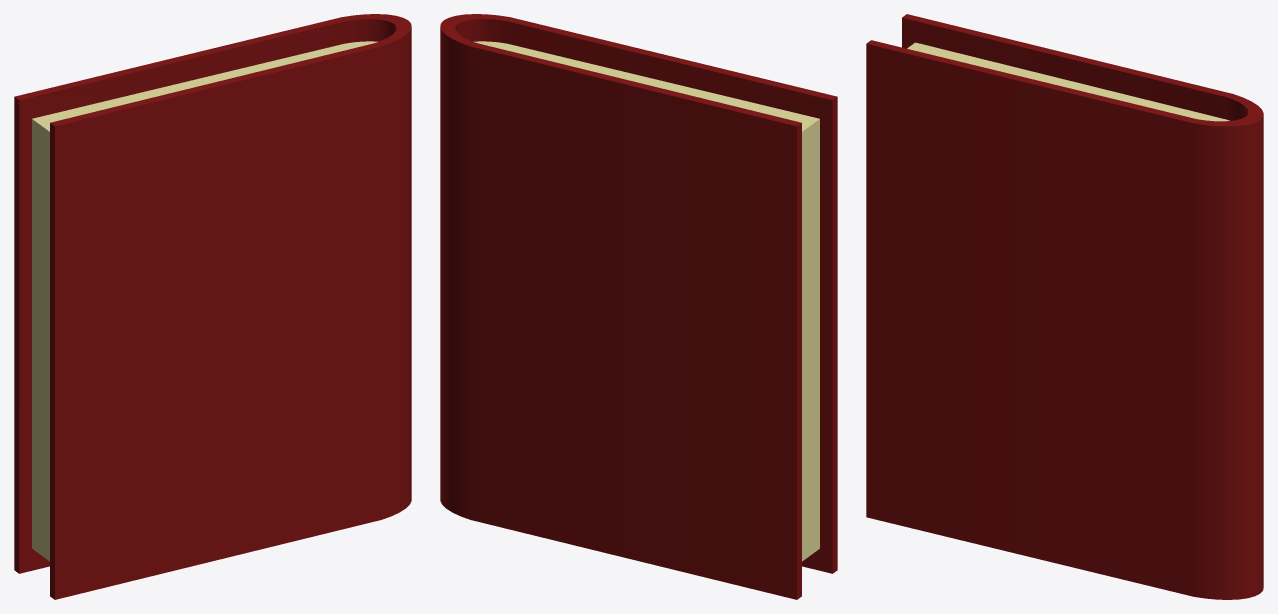
The model's file is book_red.glb.
3 views of the same model, side by side, from view 1: azimuth 30°, elevation 25°; view 2: azimuth 150°, elevation 25°; view 3: azimuth 330°, elevation 25° (orthographic).
Visible parts, largest first — view 1: book_red; view 2: book_red; view 3: book_red.
Part boxes in pixels (box(x1,y1,x2,y2)): book_red: box(14, 14, 411, 599); book_red: box(440, 14, 837, 599); book_red: box(866, 14, 1263, 599).
Bounding box in the file's own units: 0.5181 × 0.6273 × 0.0976.
